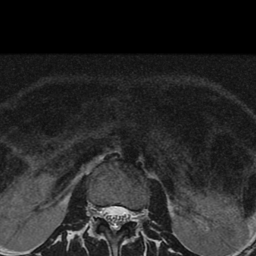CCS_normal: (110, 197, 119, 241)
LFS_normal: (130, 196, 139, 230)
LLS_normal: (119, 196, 130, 232)
RFS_normal: (93, 194, 101, 228)
RLS_normal: (101, 196, 110, 229)
